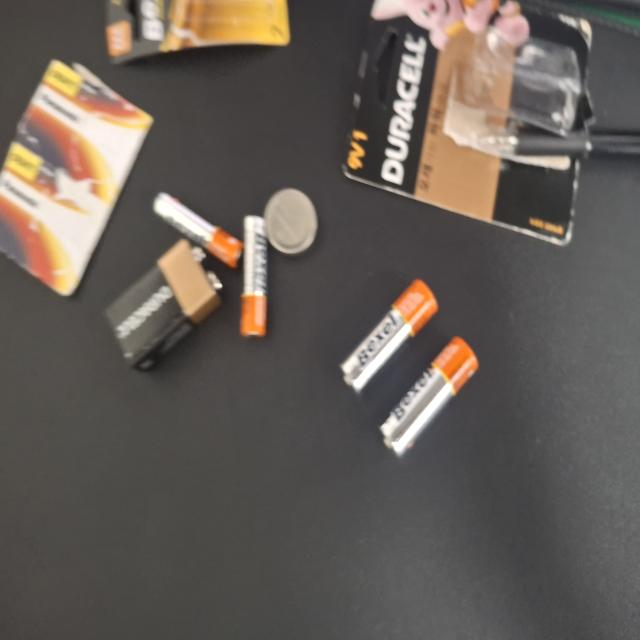9V: (202, 140, 301, 295)
AA: (139, 507, 227, 638), (187, 454, 269, 583)
AAA: (279, 204, 336, 324), (228, 320, 318, 358)
COIN: (290, 352, 338, 424)
